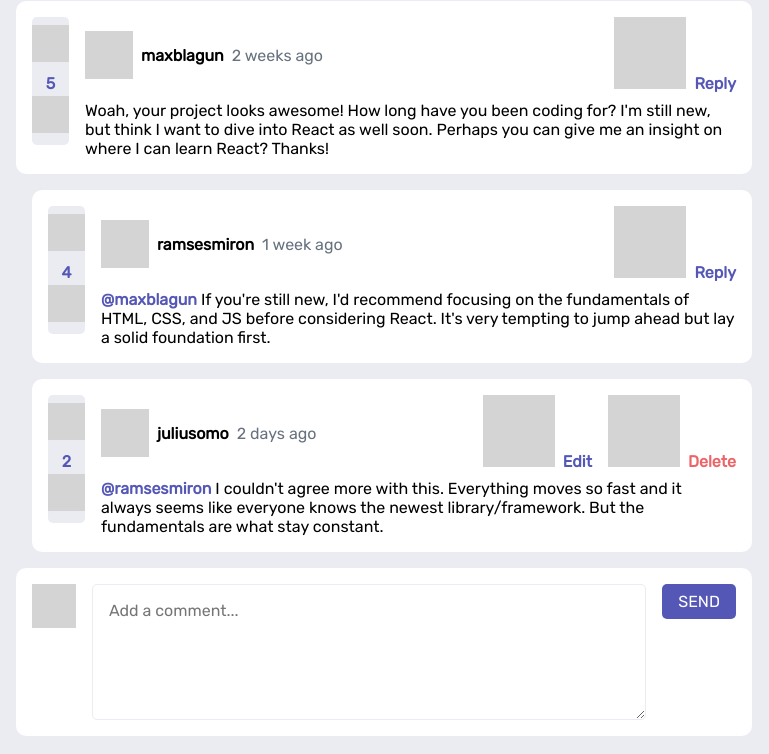
Test: App Integration Tests › Editing › should update comment content on edit submission
The image size is (769, 754).
(page scrolled)
Click the button "Edit".
click(537, 433)  # box [483, 395, 592, 471]
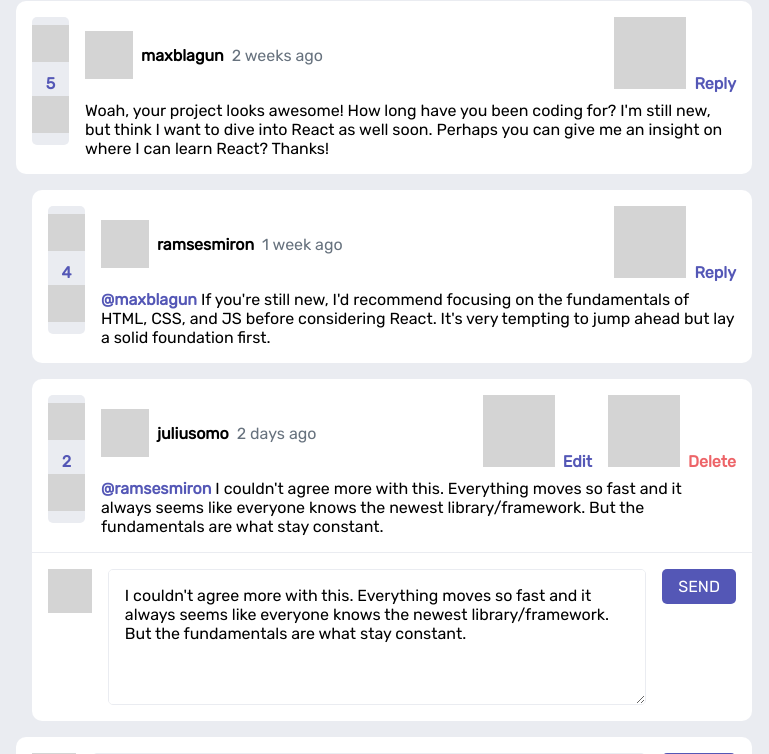
Replace the text in the text box with placeholder "Add a comment..." with "Edited content" at x=377, y=637, box [108, 569, 646, 705]
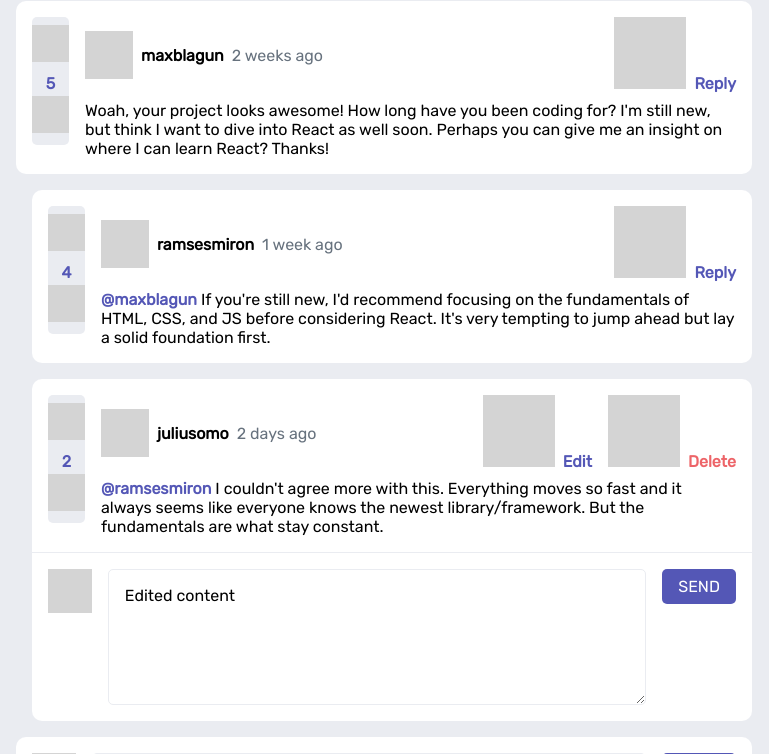
Click the 1st button "send".
click(699, 586)  # box [662, 569, 736, 604]
(page scrolled)
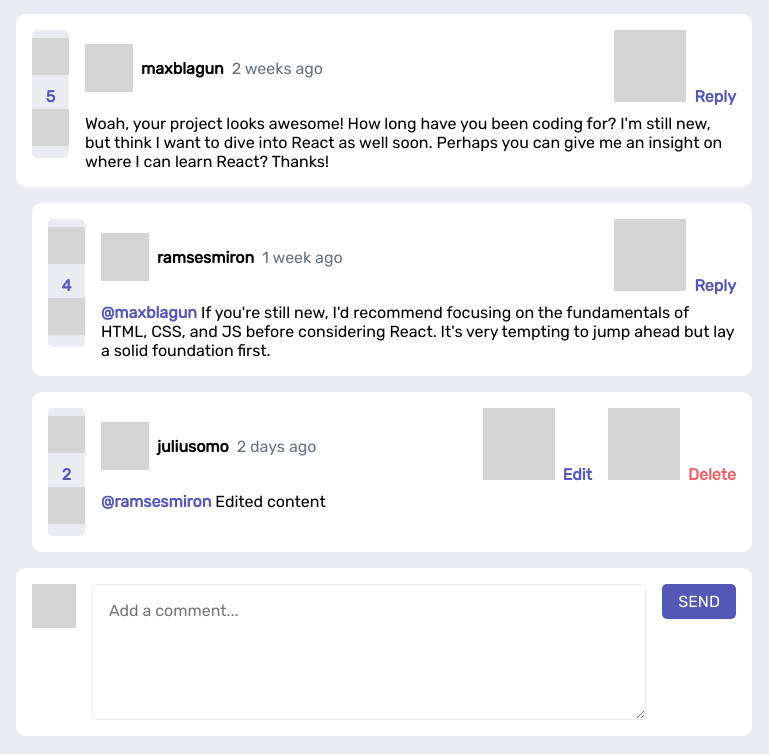
expect the text "Edited content" is shown: met, box [215, 492, 326, 511]
